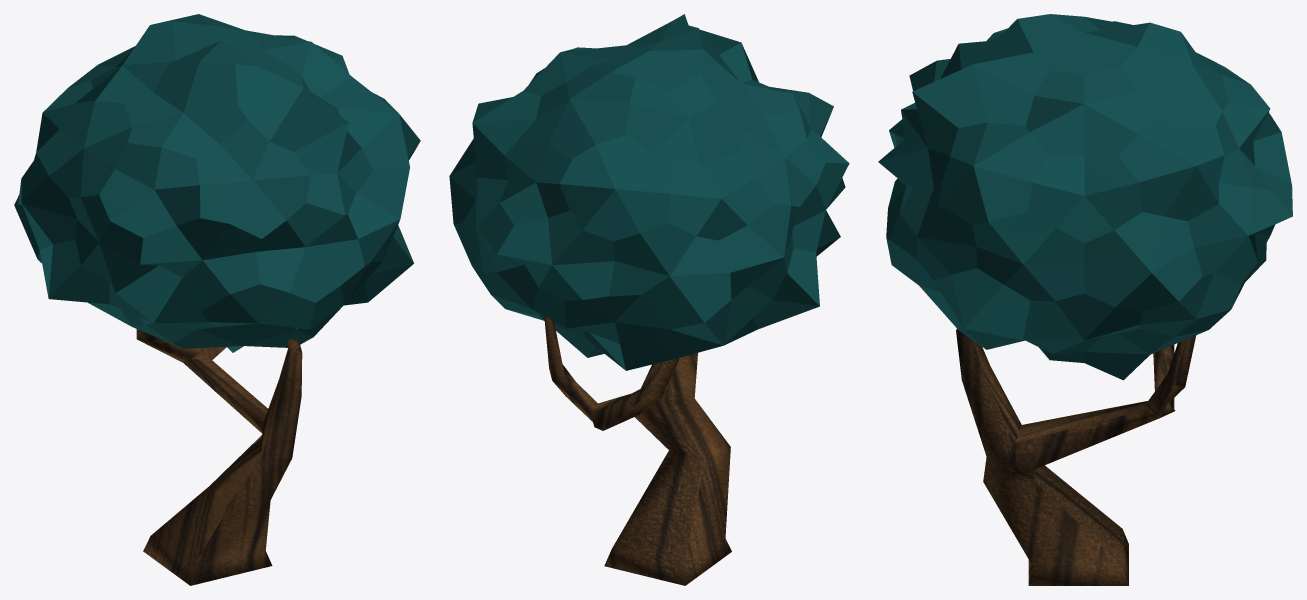
File: Buildings_Tree_2.fbx
The picture shows the model from 3 angles, left to right: view 1: azimuth 30°, elevation 25°; view 2: azimuth 150°, elevation 25°; view 3: azimuth 270°, elevation 25°; orthographic projection. The views are drawn at different scales.
Parts seen in each view (by area): view 1: Cube; view 2: Cube; view 3: Cube.
Boxes of the visible parts, x1=… form: Cube: x1=14, y1=14, x2=420, y2=585; Cube: x1=449, y1=14, x2=849, y2=585; Cube: x1=878, y1=14, x2=1292, y2=585.
Size of the model in its own units: 550 by 791 by 545.
